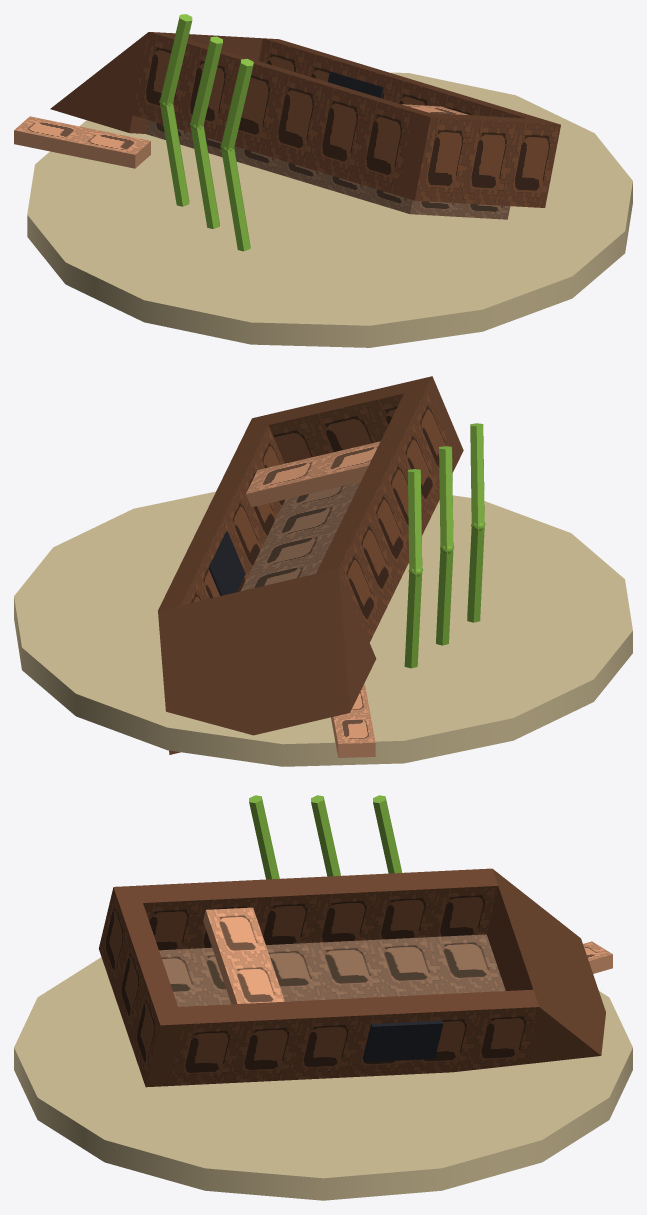
Rendered from SunkenRowBoat.glb.
3 renders of one model, top to bottom at view 1: azimuth 30°, elevation 25°; view 2: azimuth 150°, elevation 25°; view 3: azimuth 270°, elevation 25°, orthographic. The views are drawn at different scales.
Visible parts, largest first — view 1: SunkenRowBoat; view 2: SunkenRowBoat; view 3: SunkenRowBoat.
Boxes of the visible parts, <box> form: SunkenRowBoat: <box>14,14,632,347</box>; SunkenRowBoat: <box>14,376,632,766</box>; SunkenRowBoat: <box>14,795,632,1200</box>.
Bounding box in the file's own units: 10 × 3.95 × 10.
1 material, 1 textured.
